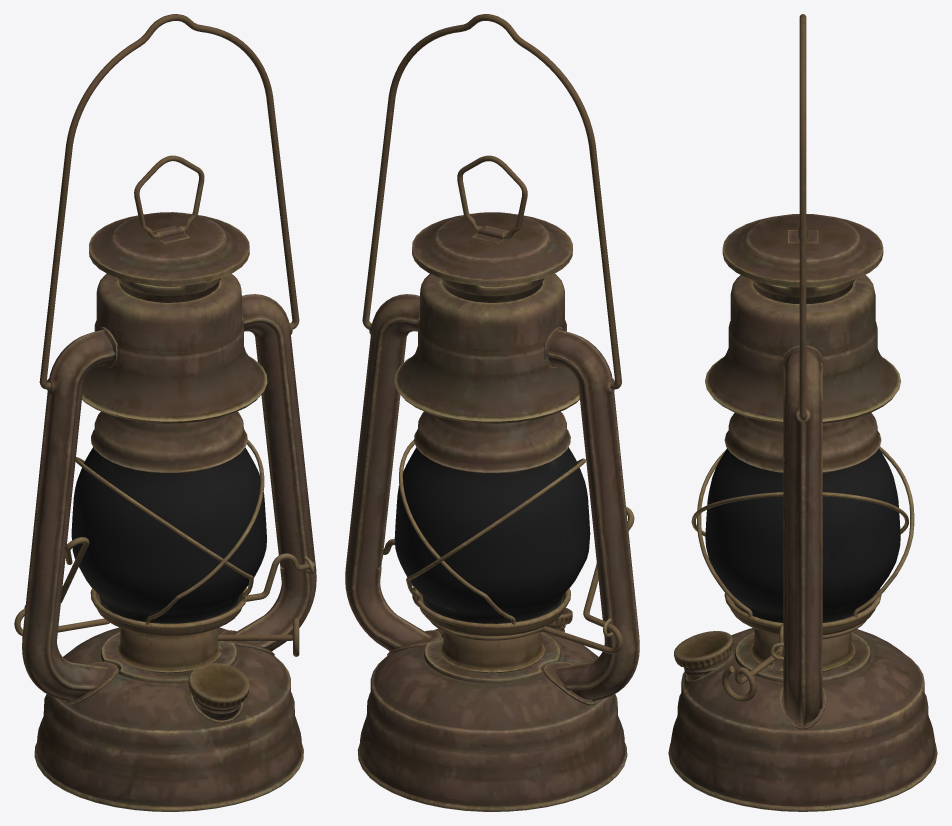
Rendered from Lantern_01.glb.
The picture shows the model from 3 angles, left to right: view 1: azimuth 30°, elevation 25°; view 2: azimuth 150°, elevation 25°; view 3: azimuth 270°, elevation 25°; orthographic projection.
Parts seen in each view (by area): view 1: Lantern_01, Lantern_01_glass; view 2: Lantern_01, Lantern_01_glass; view 3: Lantern_01, Lantern_01_glass.
Boxes of the visible parts, x1=… form: Lantern_01: x1=14, y1=14, x2=316, y2=811; Lantern_01_glass: x1=71, y1=447, x2=266, y2=623; Lantern_01: x1=345, y1=14, x2=639, y2=811; Lantern_01_glass: x1=394, y1=447, x2=590, y2=623; Lantern_01: x1=668, y1=14, x2=937, y2=811; Lantern_01_glass: x1=705, y1=448, x2=900, y2=622.
Size of the model in its own units: 0.1221 by 0.2942 by 0.0972.
Materials: 2 (2 with a texture image).
